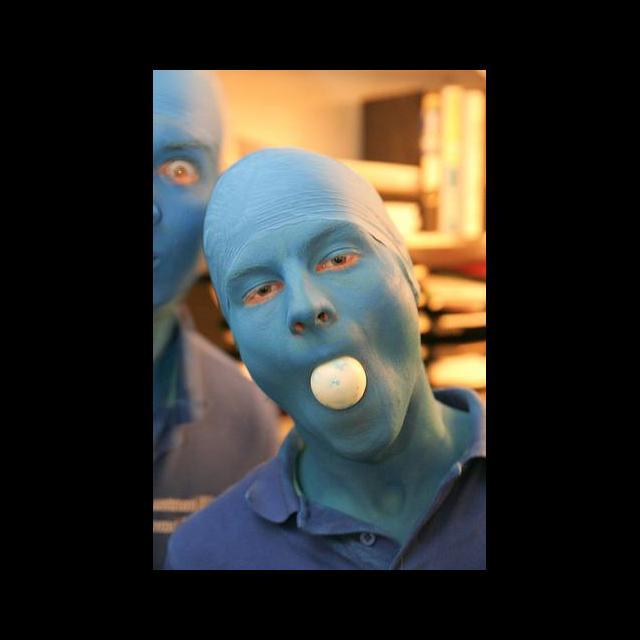ping-pong-ball: (309, 356, 366, 412)
